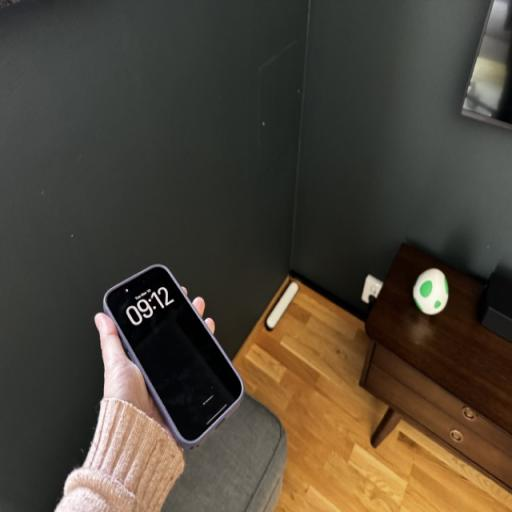phone: (99, 272, 256, 447)
